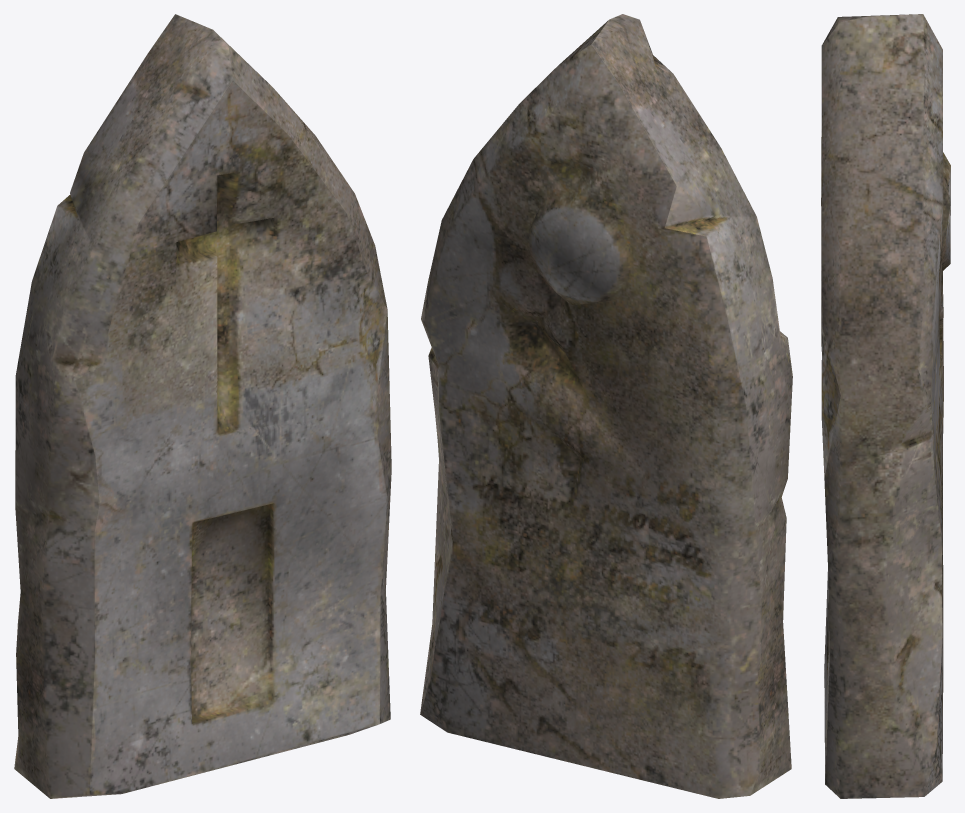
File: SM_TombStone05.FBX
3 views of the same model, side by side, from view 1: azimuth 30°, elevation 25°; view 2: azimuth 150°, elevation 25°; view 3: azimuth 270°, elevation 25° (orthographic). The views are drawn at different scales.
Parts seen in each view (by area): view 1: SM_TombStone05; view 2: SM_TombStone05; view 3: SM_TombStone05.
Boxes of the visible parts, x1=… form: SM_TombStone05: x1=14, y1=14, x2=391, y2=798; SM_TombStone05: x1=420, y1=14, x2=792, y2=798; SM_TombStone05: x1=821, y1=14, x2=950, y2=798.
Size of the model in its own units: 99.35 by 33.79 by 203.
